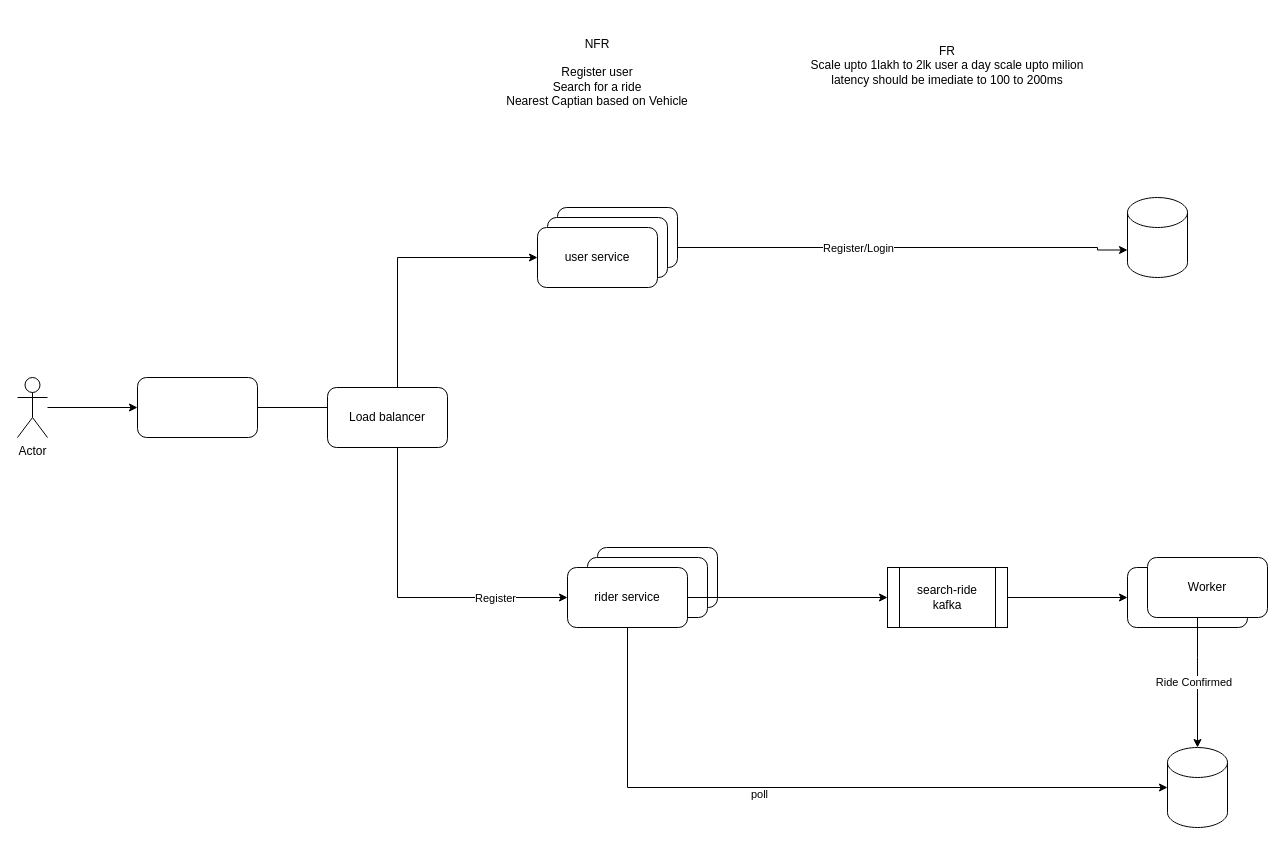
The diagram is 1285 pixels wide and 846 high, and some of its shapes have lost their labels. The shapes that lost their labels are listed below. From the top down, each one's box as (x1, y1, x2, y2) in pixels, then its label:
(1126, 196, 1188, 278): Mongo DB
(136, 376, 258, 438): API Gateway
(1166, 746, 1228, 828): Search Drivers Postgis + Postgres
